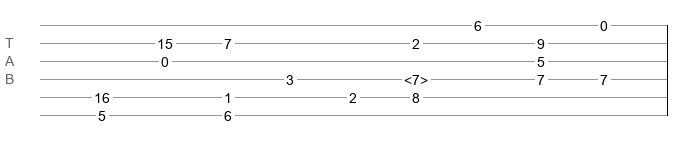0: (161, 54, 169, 64), (600, 18, 608, 28)
1: (224, 90, 232, 100)
15: (157, 36, 173, 46)
16: (94, 90, 110, 100)
2: (349, 90, 357, 100), (412, 36, 420, 46)
3: (286, 72, 294, 82)
5: (98, 108, 106, 118), (537, 54, 545, 64)
6: (224, 108, 232, 118), (474, 18, 482, 28)
7: (224, 36, 232, 46), (537, 72, 545, 82), (600, 72, 608, 82)
8: (412, 90, 420, 100)
9: (537, 36, 545, 46)
harmonic: (404, 72, 428, 82)
